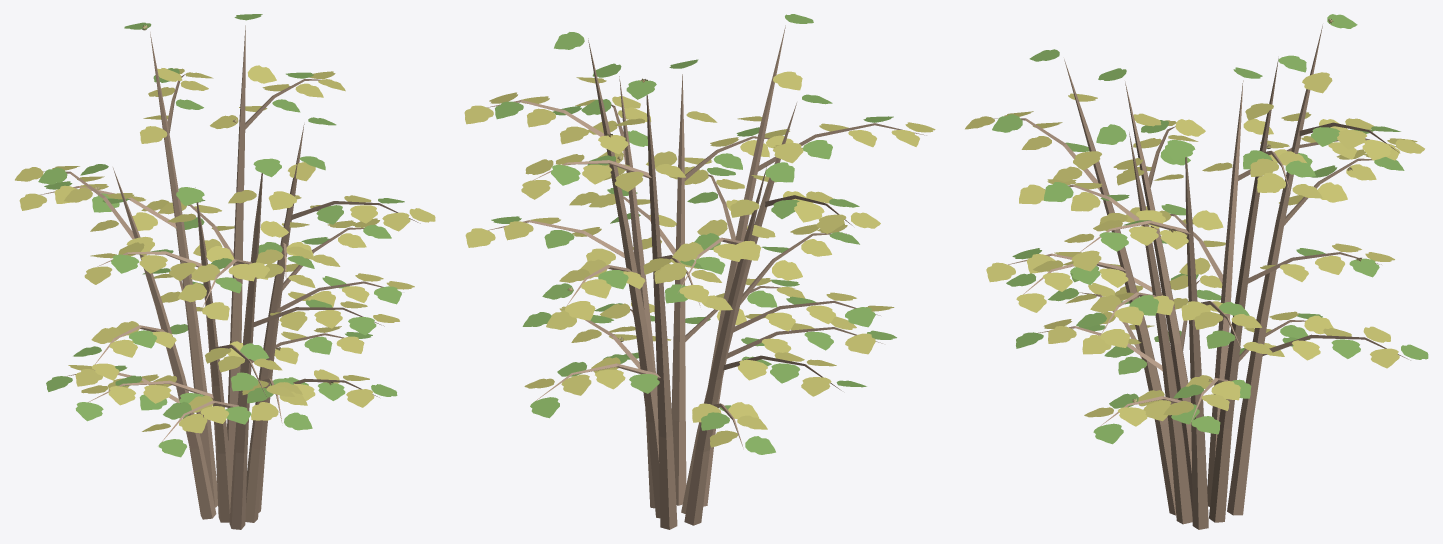
File: hazelnut.glb
3 renders of one model, left to right at view 1: azimuth 30°, elevation 25°; view 2: azimuth 150°, elevation 25°; view 3: azimuth 270°, elevation 25°, orthographic. The views are drawn at different scales.
Parts seen in each view (by area): view 1: hazelnut__ripe__leaves_autumn, hazelnut__ripe__stems; view 2: hazelnut__ripe__leaves_autumn, hazelnut__ripe__stems; view 3: hazelnut__ripe__leaves_autumn, hazelnut__ripe__stems.
Boxes of the visible parts, x1,y1,x2,y2 form: hazelnut__ripe__leaves_autumn: (15,14,435,457); hazelnut__ripe__stems: (40,25,420,529); hazelnut__ripe__leaves_autumn: (464,14,935,454); hazelnut__ripe__stems: (487,25,926,529); hazelnut__ripe__leaves_autumn: (965,14,1428,444); hazelnut__ripe__stems: (994,25,1410,529).
Bounding box in the file's own units: 2.1 × 2.71 × 2.34.
